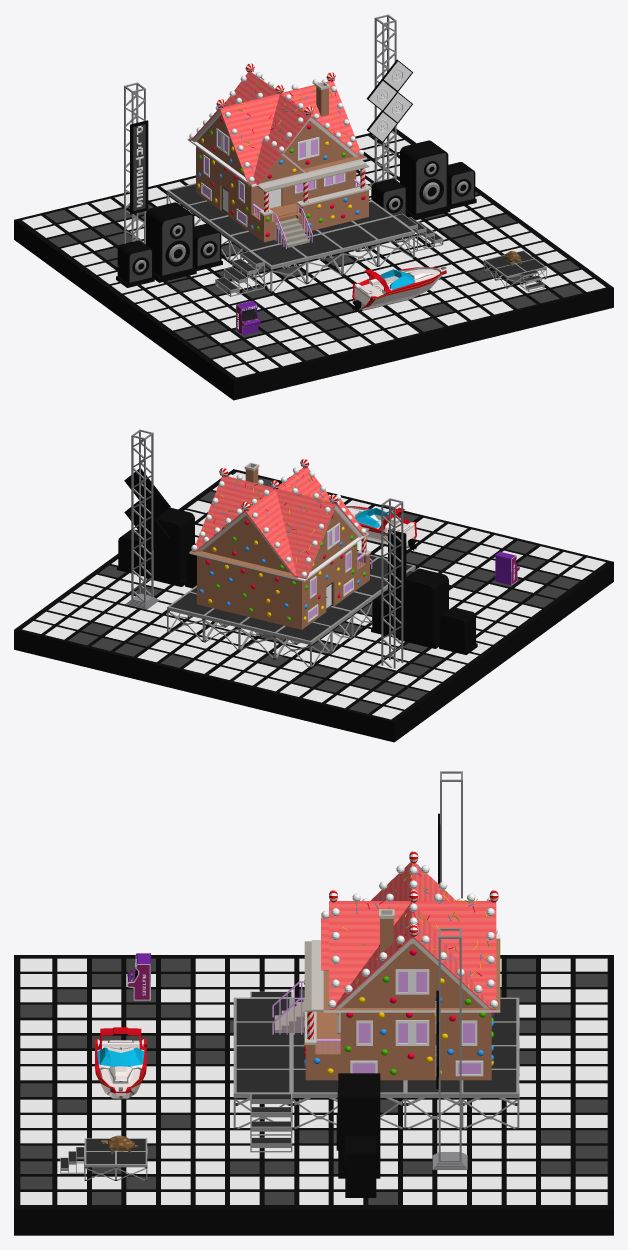
3 views of the same model, one above another, from view 1: azimuth 30°, elevation 25°; view 2: azimuth 150°, elevation 25°; view 3: azimuth 270°, elevation 25° (orthographic). The views are drawn at different scales.
Parts seen in each view (by area): view 1: Cube.008, Cube.1203, VEHICLES_BOAT, OBJRANDOM_ARCADE; view 2: Cube.008, Cube.1203, VEHICLES_BOAT, OBJRANDOM_ARCADE; view 3: Cube.008, Cube.1203, VEHICLES_BOAT, OBJRANDOM_ARCADE.
Boxes of the visible parts, x1,y1,x2,y2 form: Cube.008: (14, 14, 613, 400); Cube.1203: (187, 63, 371, 248); VEHICLES_BOAT: (352, 266, 446, 311); OBJRANDOM_ARCADE: (236, 300, 260, 335); Cube.008: (14, 429, 613, 742); Cube.1203: (189, 459, 372, 629); VEHICLES_BOAT: (346, 506, 416, 550); OBJRANDOM_ARCADE: (495, 551, 519, 585); Cube.008: (14, 771, 613, 1235); Cube.1203: (272, 850, 500, 1080); VEHICLES_BOAT: (95, 1027, 146, 1099); OBJRANDOM_ARCADE: (127, 953, 150, 1000).
Size of the model in its own units: 4000 by 1988 by 4000.
50 materials, 2 textured.
